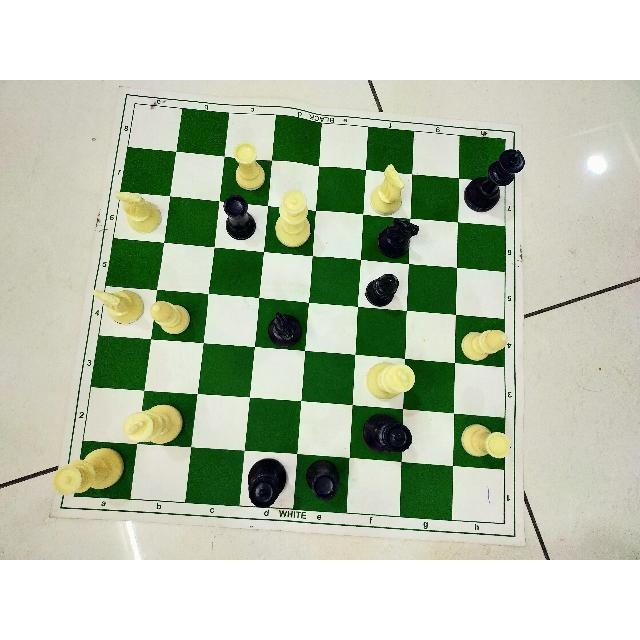black-bishop: (361, 271, 404, 308)
black-king: (463, 148, 524, 213)
black-knight: (376, 218, 419, 260), (259, 309, 305, 348)
black-queen: (242, 455, 290, 513), (360, 409, 414, 460)
black-rook: (221, 194, 257, 242), (304, 458, 342, 501)
white-bishop: (457, 323, 512, 365), (148, 295, 192, 336)
white-king: (122, 398, 187, 446), (364, 358, 418, 405)
white-knight: (88, 281, 143, 331), (112, 183, 162, 237), (366, 163, 410, 215)
white-queen: (48, 446, 123, 508), (272, 188, 315, 250)
white-rook: (456, 418, 510, 463), (229, 137, 269, 190)
